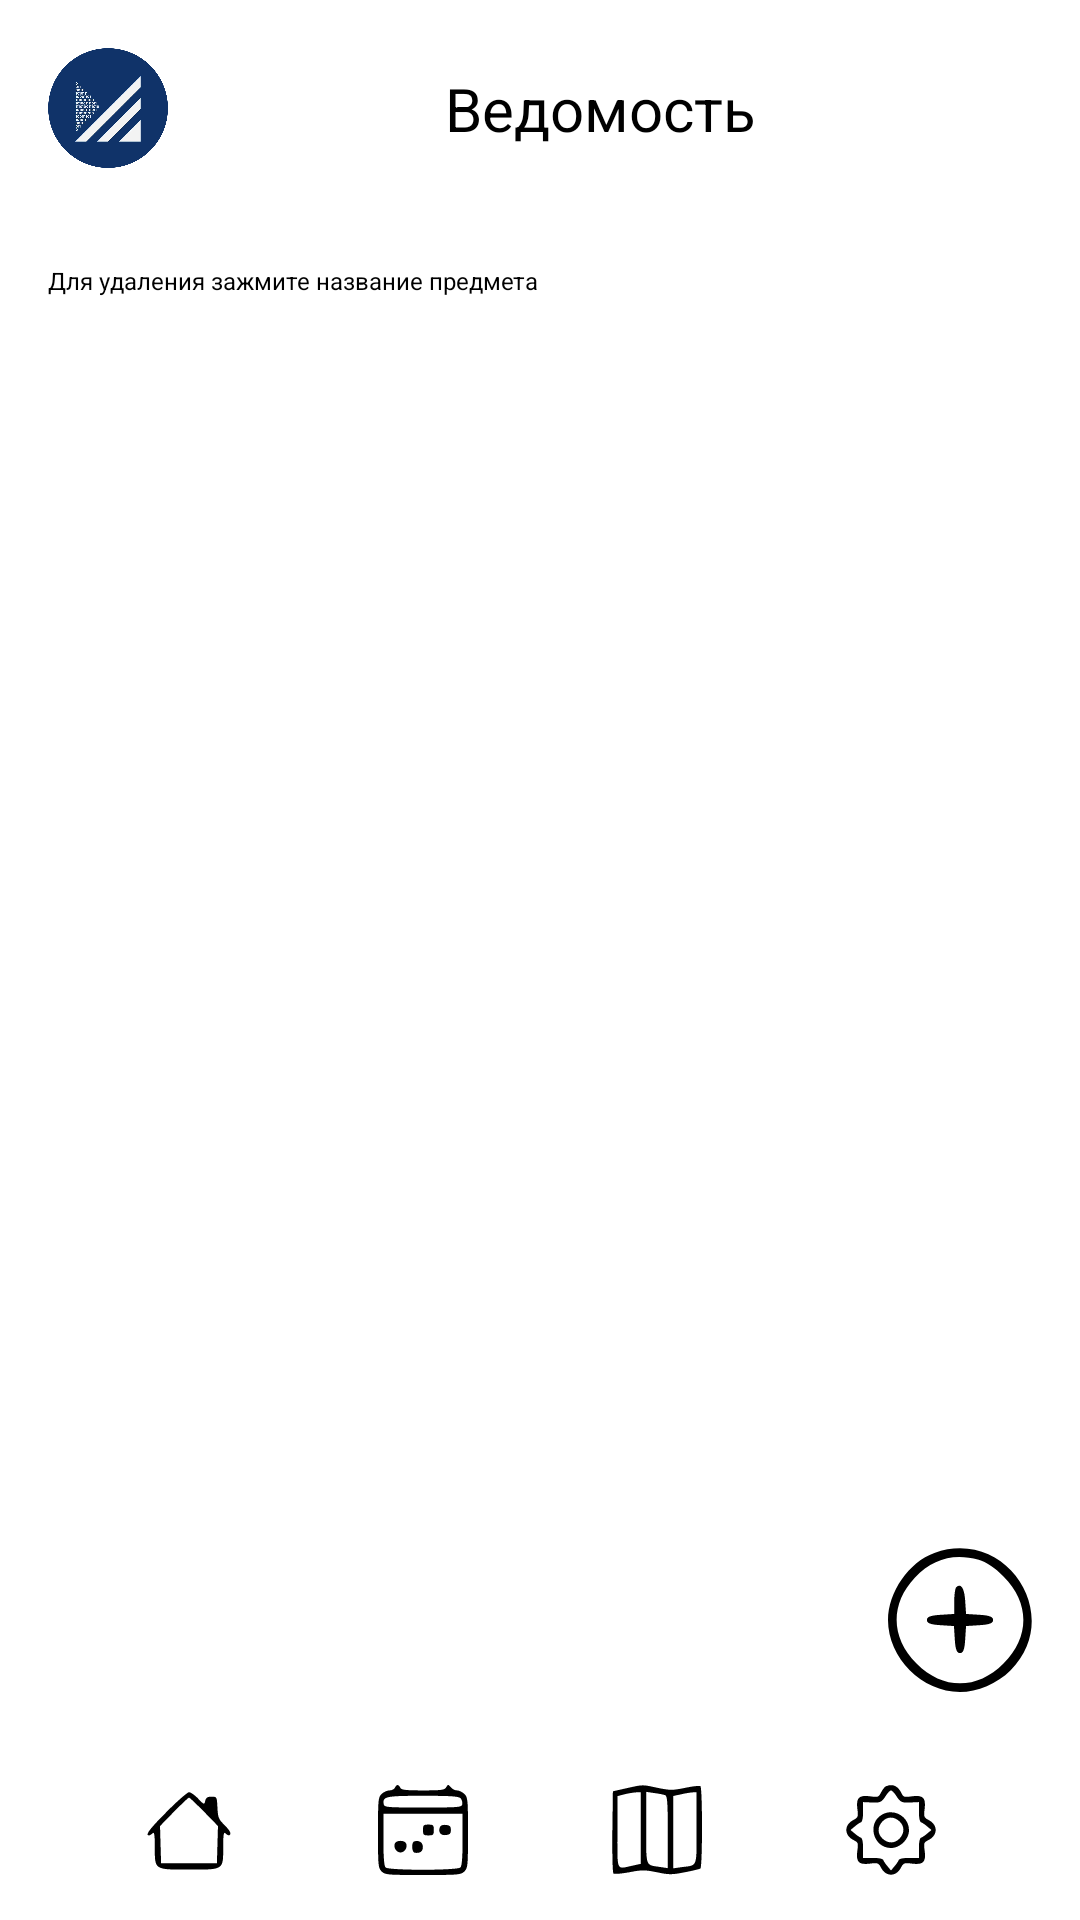

Where to tap for icons on this 1080w x 1920h app screen, as [x,y]:
calendar: [423,1830]
home: [189,1831]
map: [657,1830]
settings: [891,1830]
Добавить предмет: [960,1620]
